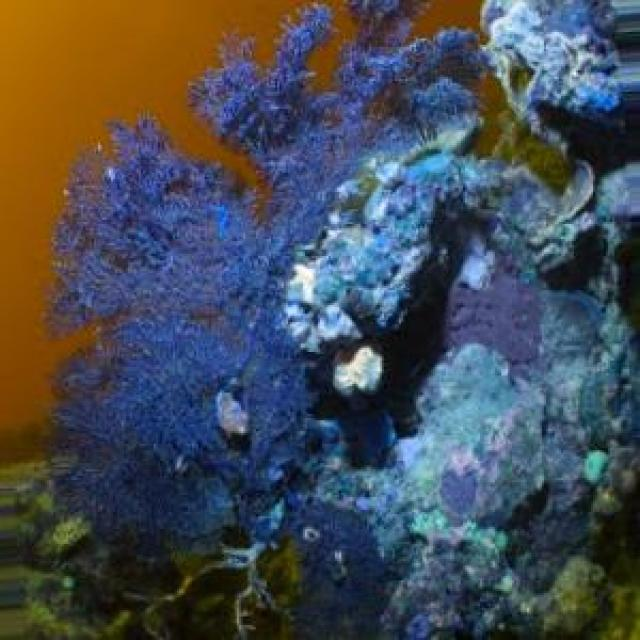Healthy: (46, 1, 640, 640)
